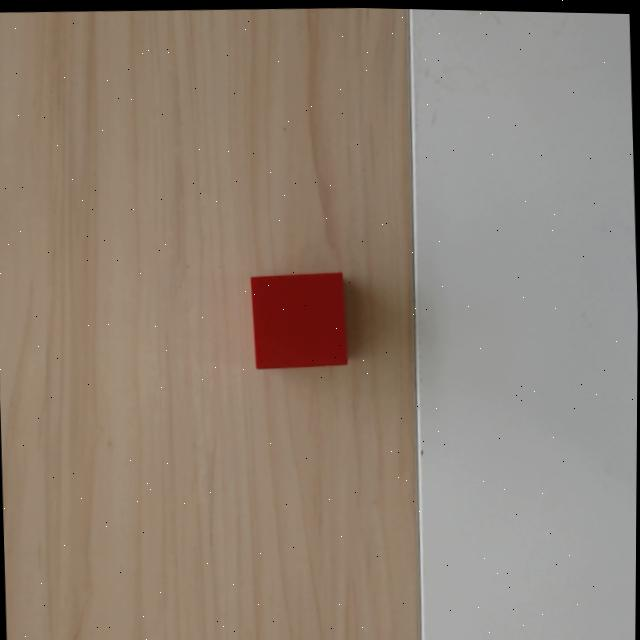Kubus-Merah-505050: (250, 270, 347, 368)
